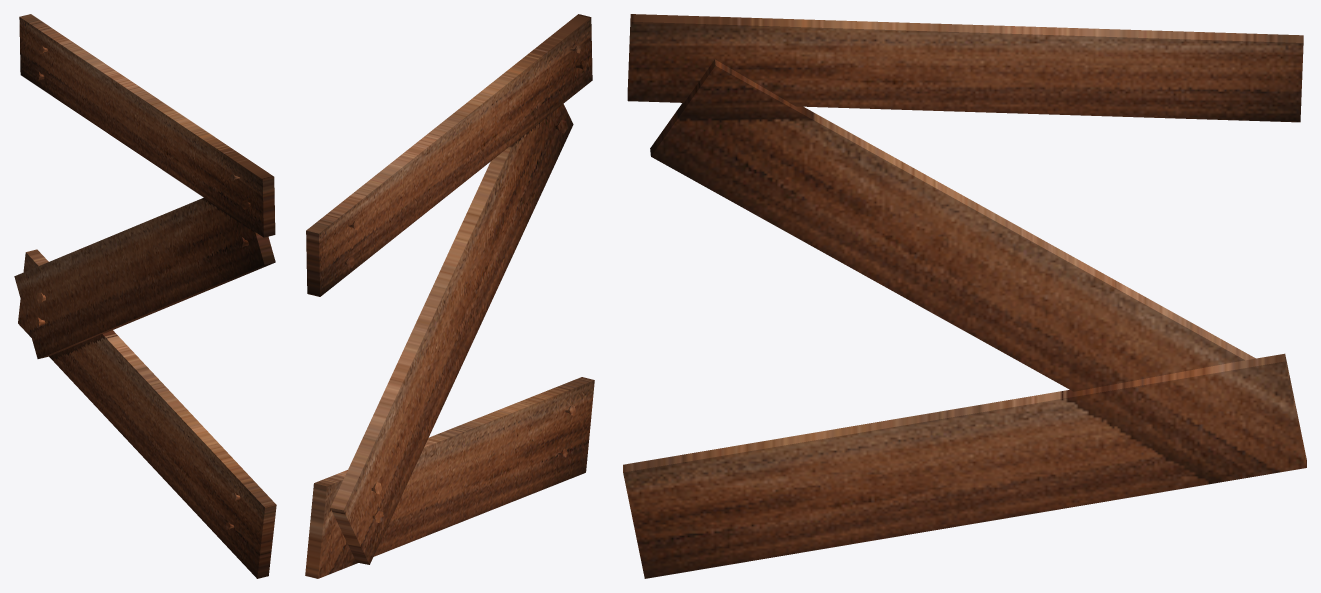
File: Plankor_temp.fbx
3 views of the same model, side by side, from view 1: azimuth 30°, elevation 25°; view 2: azimuth 150°, elevation 25°; view 3: azimuth 270°, elevation 25° (orthographic). The views are drawn at different scales.
Visible parts, largest first — view 1: pCube16; view 2: pCube16; view 3: pCube16.
Boxes of the visible parts, left/top/right/bottom form: pCube16: left=14, top=14, right=276, bottom=578; pCube16: left=305, top=14, right=594, bottom=578; pCube16: left=623, top=14, right=1306, bottom=578.
Bounding box in the file's own units: 0.0564 × 0.5463 × 0.6074.
1 material, 1 textured.
